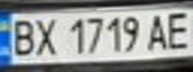1: (63, 15, 87, 54), (103, 14, 124, 53)
7: (81, 14, 106, 54)
9: (121, 12, 145, 53)
A: (145, 11, 172, 52)
B: (3, 16, 39, 57)
E: (160, 8, 193, 51)
X: (30, 15, 60, 57)
